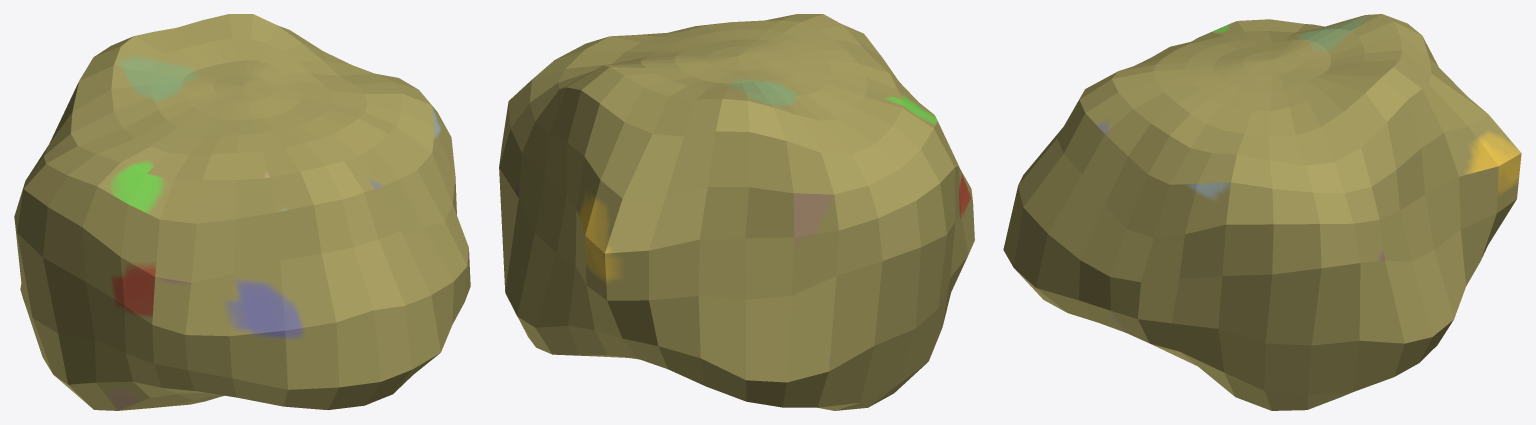
File: puke.fbx
3 views of the same model, side by side, from view 1: azimuth 30°, elevation 25°; view 2: azimuth 150°, elevation 25°; view 3: azimuth 270°, elevation 25° (orthographic). The views are drawn at different scales.
Parts seen in each view (by area): view 1: Sphere; view 2: Sphere; view 3: Sphere.
Boxes of the visible parts, x1=… form: Sphere: x1=14, y1=14, x2=470, y2=410; Sphere: x1=499, y1=14, x2=974, y2=410; Sphere: x1=1003, y1=14, x2=1521, y2=410.
Bounding box in the file's own units: 8001 × 5944 × 9150.
